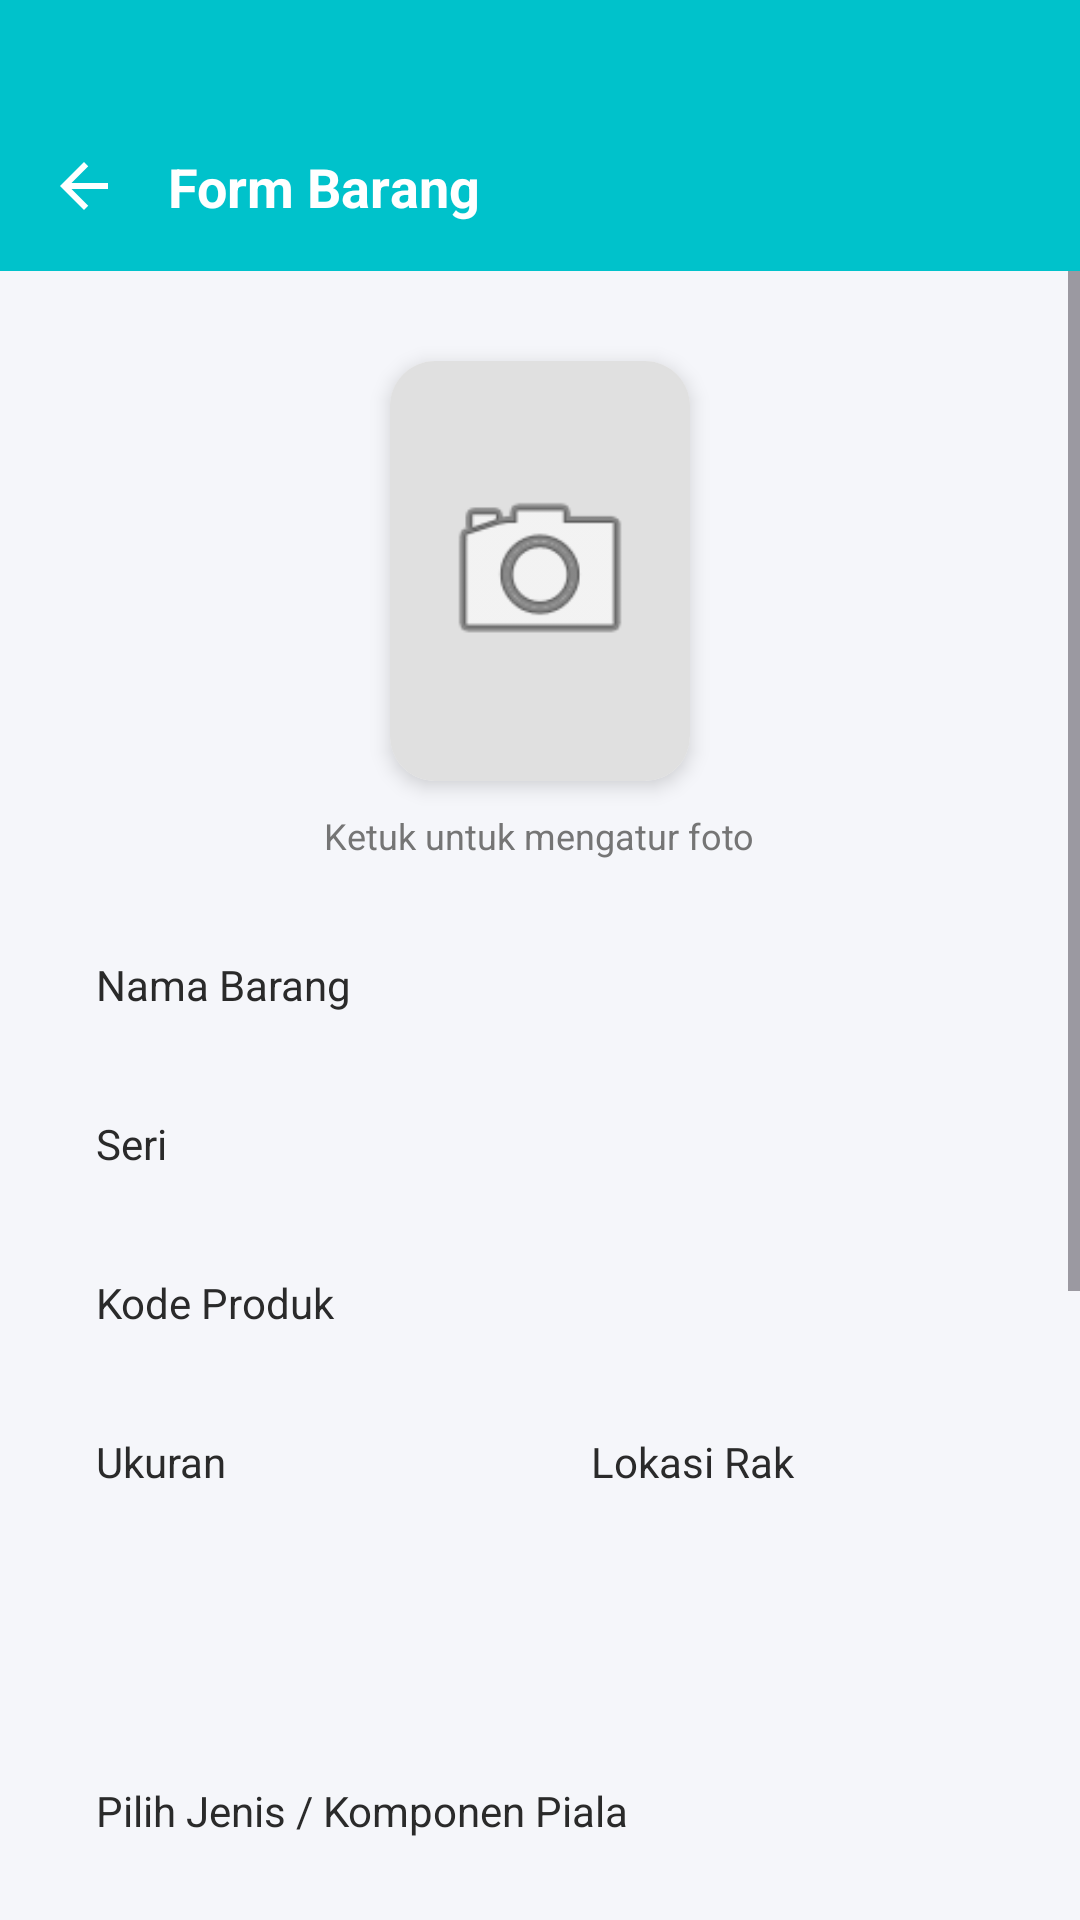

Icons on this 1080×1920 Android screen, each with the point to tap as (x=x, y=y):
arrow back: (x=84, y=186)
